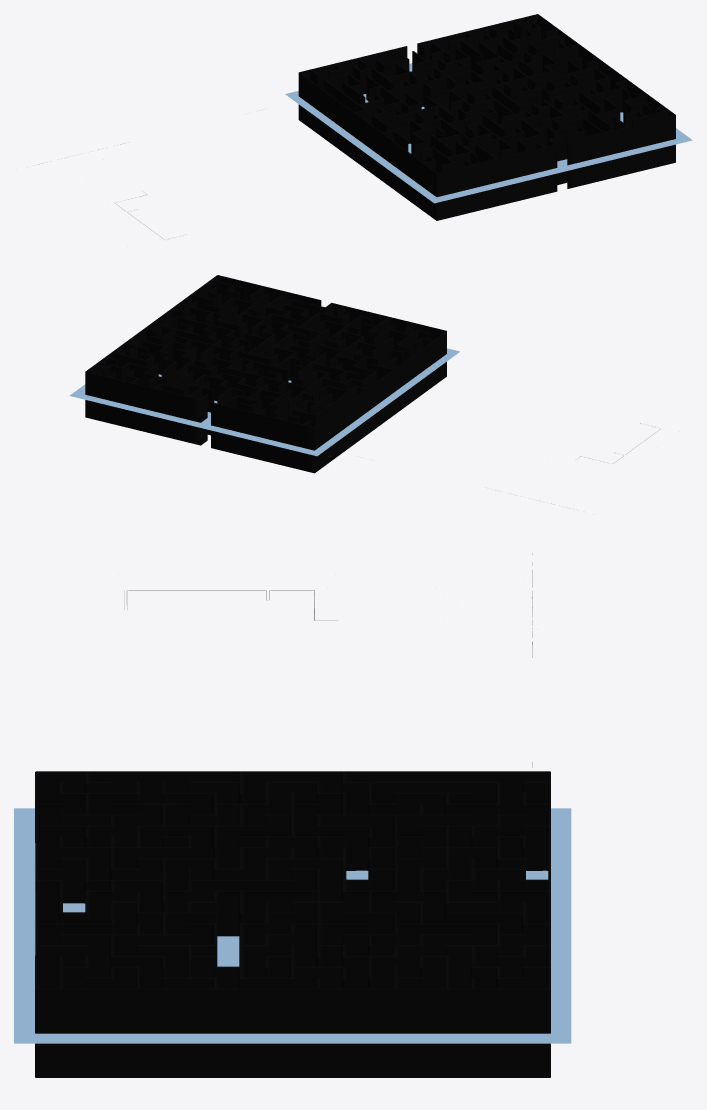
The model's file is Maze5.fbx.
3 renders of one model, top to bottom at view 1: azimuth 30°, elevation 25°; view 2: azimuth 150°, elevation 25°; view 3: azimuth 270°, elevation 25°, orthographic. The views are drawn at different scales.
Visible parts, largest first — view 1: Curve.002, Curve.003, Plane; view 2: Curve.002, Curve.003, Plane; view 3: Curve.003, Curve.002, Plane.
Part boxes in pixels (x1,y1,x2,y2): Curve.002: (298, 22, 586, 220); Curve.003: (352, 14, 675, 188); Plane: (285, 63, 692, 203); Curve.002: (102, 299, 446, 473); Curve.003: (85, 275, 321, 445); Plane: (69, 348, 459, 456); Curve.003: (35, 814, 550, 1077); Curve.002: (35, 771, 550, 988); Plane: (14, 808, 571, 1043).
Size of the model in its own units: 578 by 43.91 by 306.
